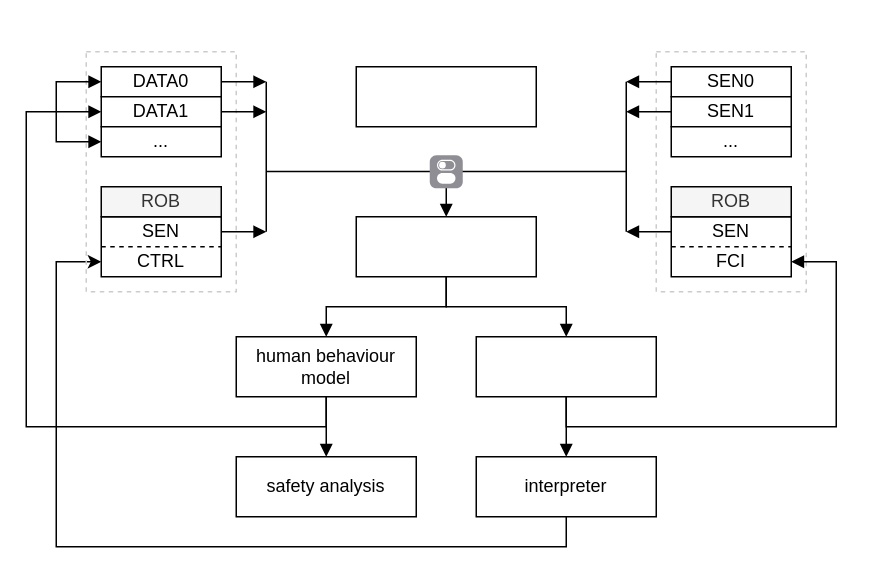
Image size: 875x585. Some labels were removed from this diagram. Here are the shapes that lost their labels. From the top down, the box of each, then its label:
(355, 65, 536, 127): command center (UI)
(85, 50, 236, 292): simulated
(655, 50, 806, 292): real
(355, 215, 536, 277): data manager
(475, 335, 656, 397): admittance controller
